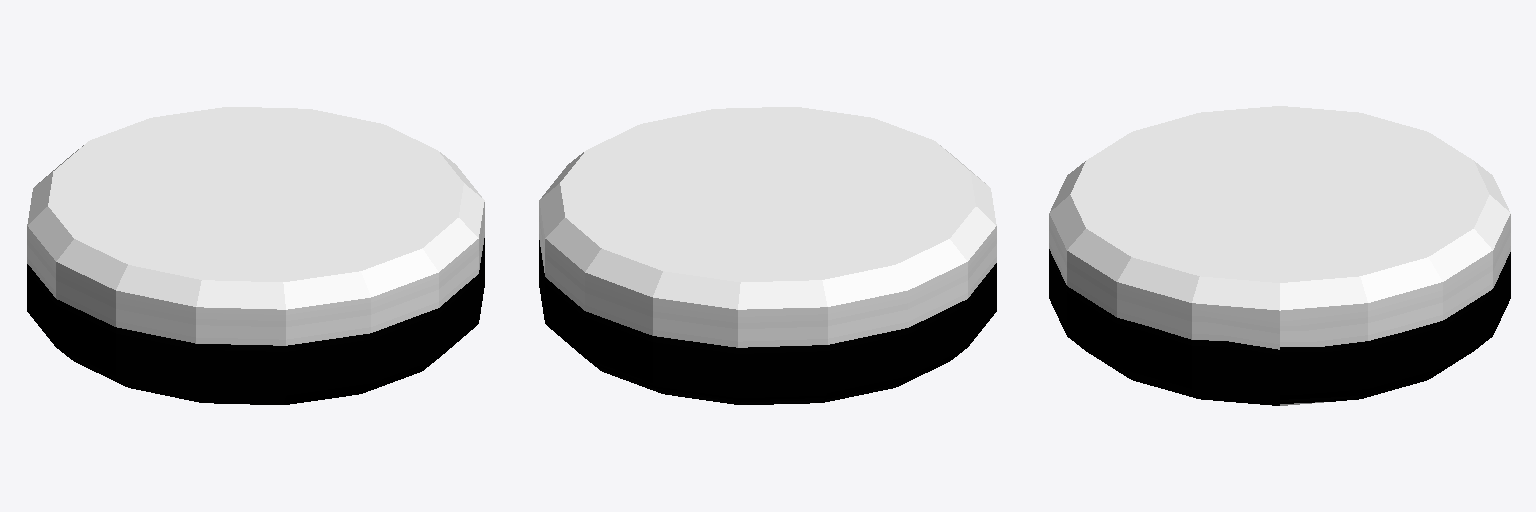
3 views of the same model, side by side, from view 1: azimuth 30°, elevation 25°; view 2: azimuth 150°, elevation 25°; view 3: azimuth 270°, elevation 25° (orthographic).
Parts seen in each view (by area): view 1: Circle; view 2: Circle; view 3: Circle.
Part boxes in pixels (x1,y1,x2,y2): Circle: (27, 107, 484, 404); Circle: (539, 107, 996, 404); Circle: (1049, 106, 1510, 405).
Bounding box in the file's own units: 2 × 0.5884 × 2.
Materials: 1 (1 with a texture image).